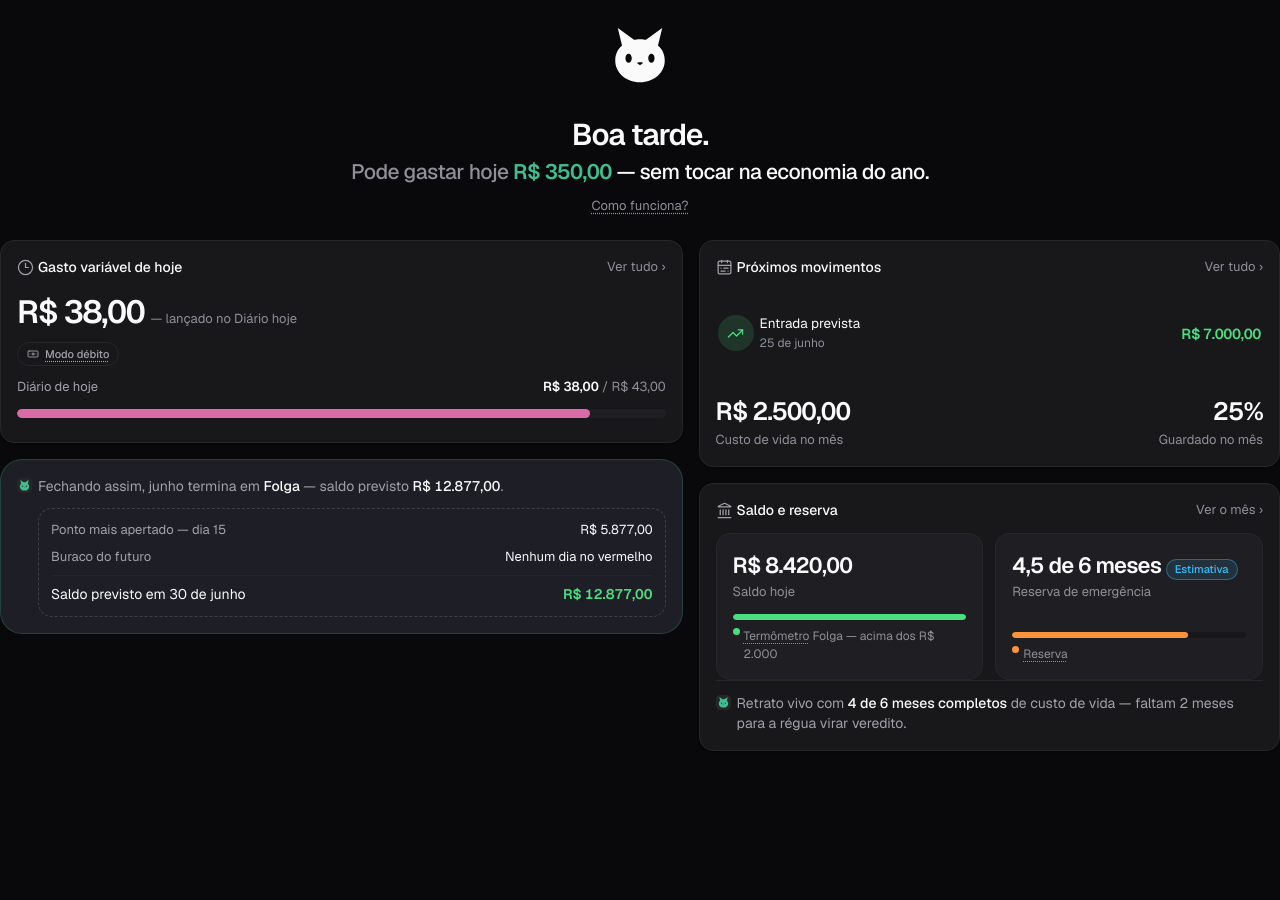
Test: DashboardScreen (Hoje) › termômetro: legenda com a fronteira, régua atrás do termo tocável
Expected: the text "Termômetro Folga — acima dos R$ 2.000" is shown, 744,628 -> 966,663
Click the button "Termômetro".
click(776, 637)  # box 744,628 -> 810,646
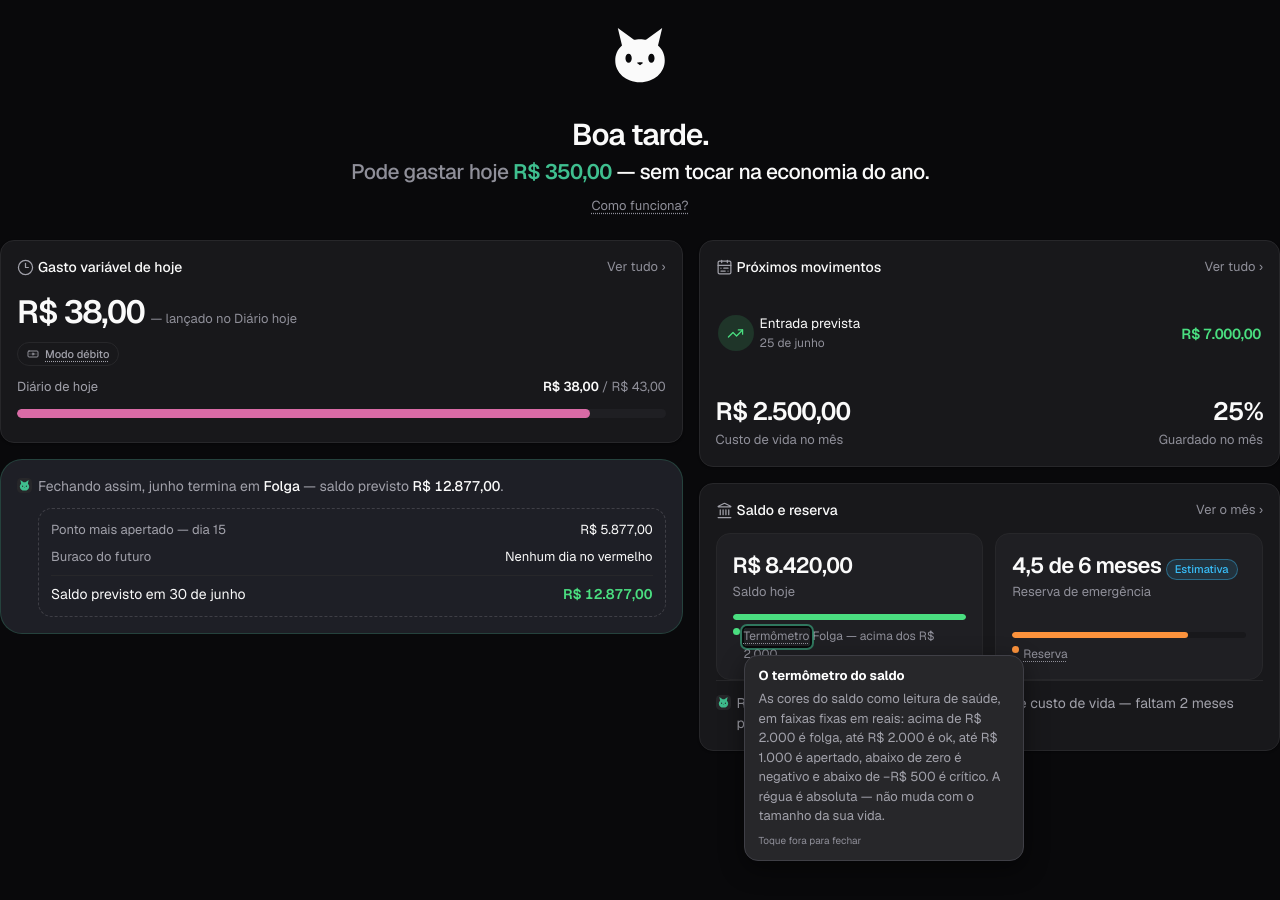
Expected: the tooltip shows "faixas fixas em reais", 758,690 -> 1000,824
